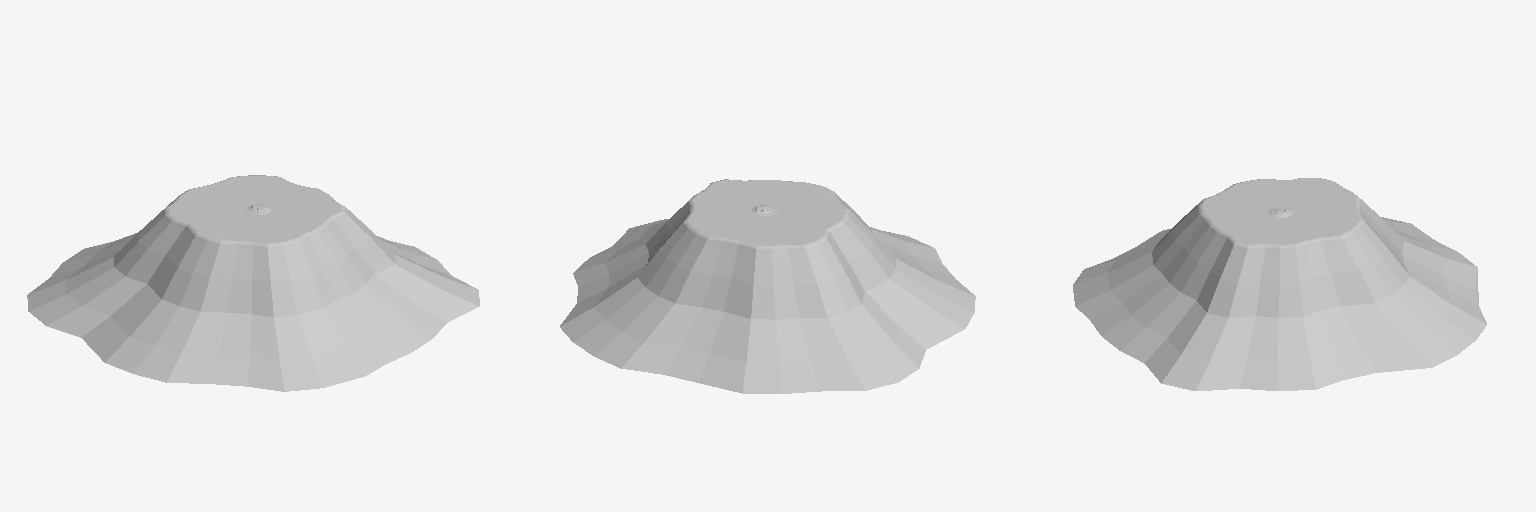
The model's file is new_island.obj.
3 views of the same model, side by side, from view 1: azimuth 30°, elevation 25°; view 2: azimuth 150°, elevation 25°; view 3: azimuth 270°, elevation 25° (orthographic).
Visible parts, largest first — view 1: Cylinder_Cylinder.001; view 2: Cylinder_Cylinder.001; view 3: Cylinder_Cylinder.001.
Boxes of the visible parts, x1,y1,x2,y2 form: Cylinder_Cylinder.001: [27, 175, 479, 391]; Cylinder_Cylinder.001: [560, 179, 975, 393]; Cylinder_Cylinder.001: [1073, 178, 1486, 390].
Bounding box in the file's own units: 12.61 × 3.15 × 12.54.